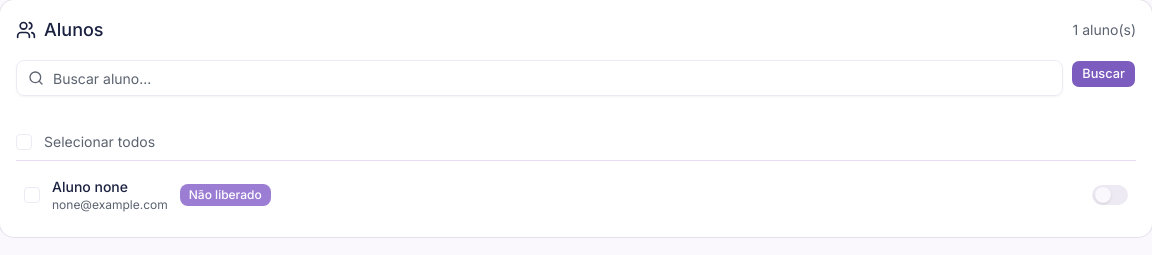
Test: StudentToggleList › libera individualmente um aluno sem assignment somente após o POST confirmado
Click the switch with test id "student-toggle-none".
click(1110, 195)  # box left=1092, top=185, right=1128, bottom=205
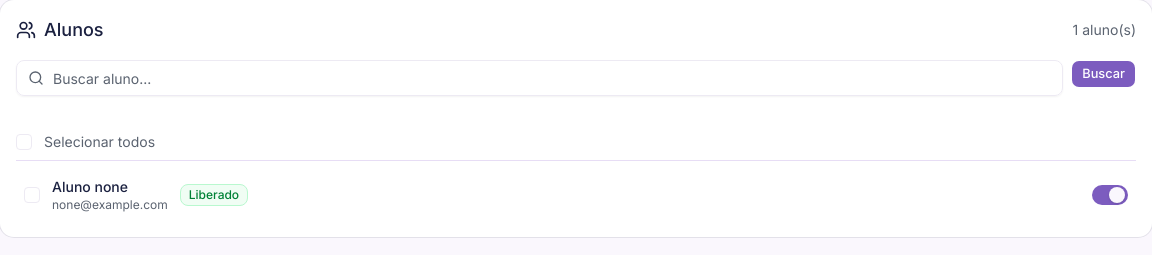
Result: the text with test id "student-status-none" reads "Liberado" at left=189, top=187, right=239, bottom=202
